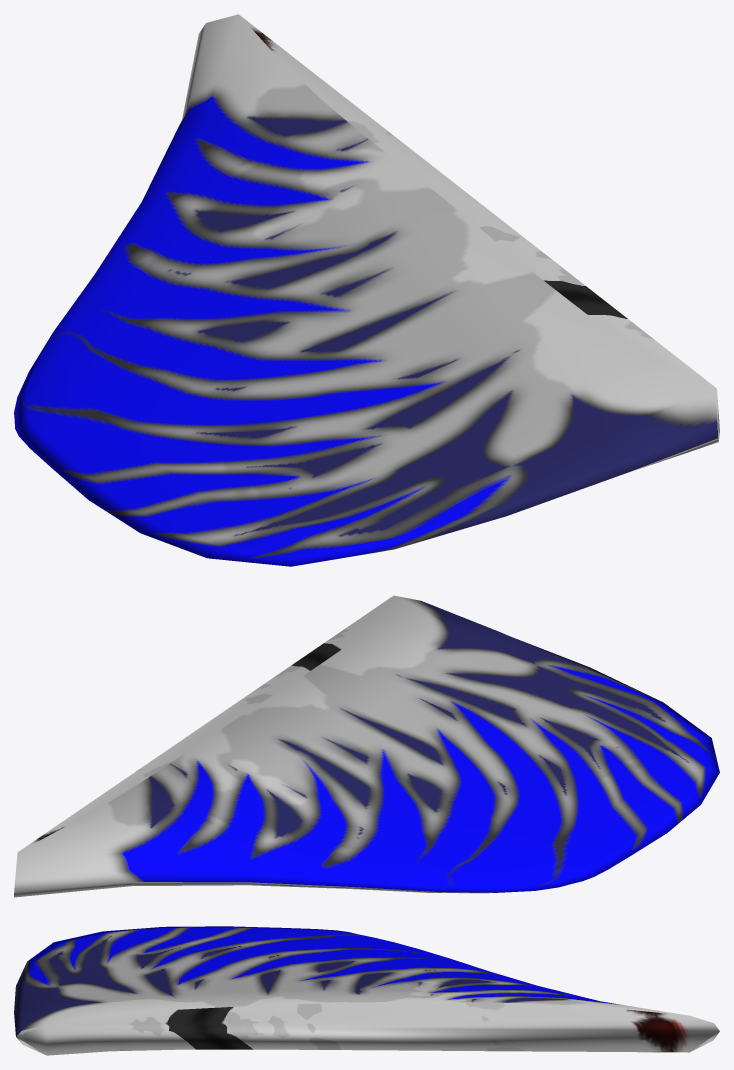
File: FighterDestructionPart3.fbx
3 renders of one model, top to bottom at view 1: azimuth 30°, elevation 25°; view 2: azimuth 150°, elevation 25°; view 3: azimuth 270°, elevation 25°, orthographic. The views are drawn at different scales.
Visible parts, largest first — view 1: polySurface1; view 2: polySurface1; view 3: polySurface1.
Boxes of the visible parts, x1,y1,x2,y2 form: polySurface1: [14, 14, 719, 566]; polySurface1: [14, 595, 719, 897]; polySurface1: [14, 926, 719, 1055].
Size of the model in its own units: 4.79 by 1.04 by 8.78.
1 material, 1 textured.
